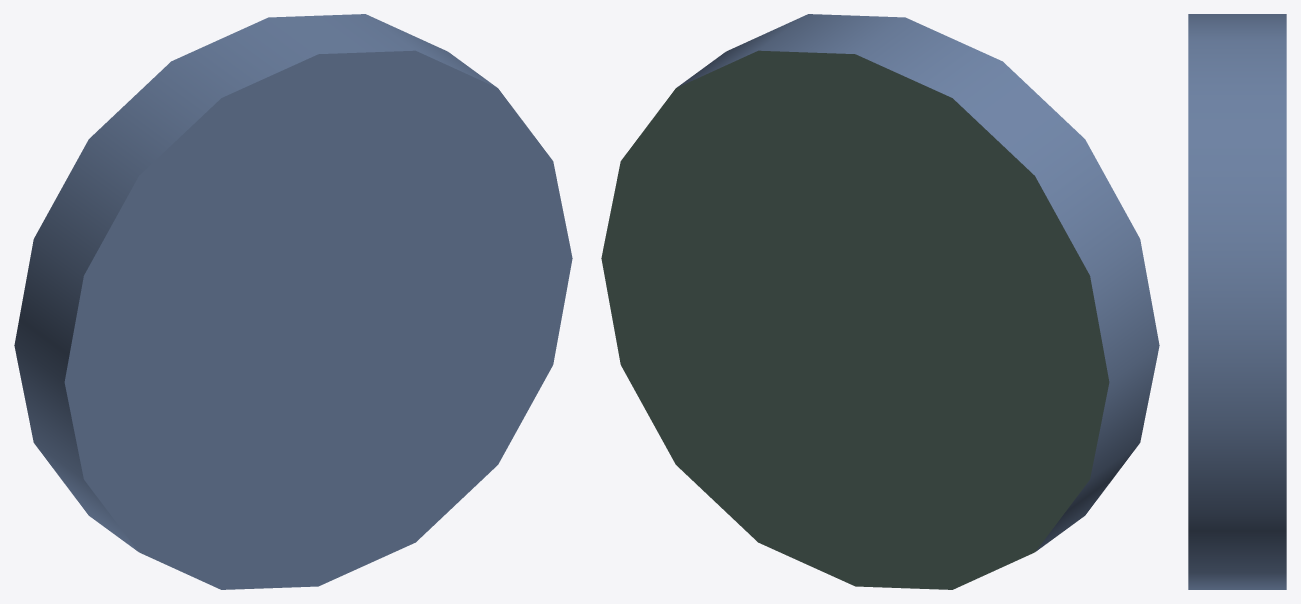
File: icub_l_hip_1.dae
3 views of the same model, side by side, from view 1: azimuth 30°, elevation 25°; view 2: azimuth 150°, elevation 25°; view 3: azimuth 270°, elevation 25° (orthographic).
Parts seen in each view (by area): view 1: l_hip_1_mesh; view 2: l_hip_1_mesh; view 3: l_hip_1_mesh.
Boxes of the visible parts, <box> form: l_hip_1_mesh: <box>14,14,572,589</box>; l_hip_1_mesh: <box>601,14,1159,589</box>; l_hip_1_mesh: <box>1188,14,1286,589</box>.
Bounding box in the file's own units: 0.076 × 0.0761 × 0.013.
